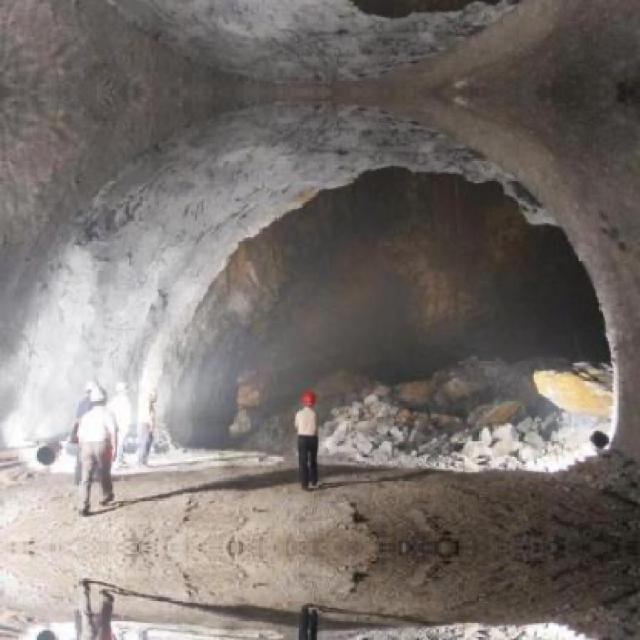helmet: (300, 386, 317, 411), (92, 386, 108, 409)
